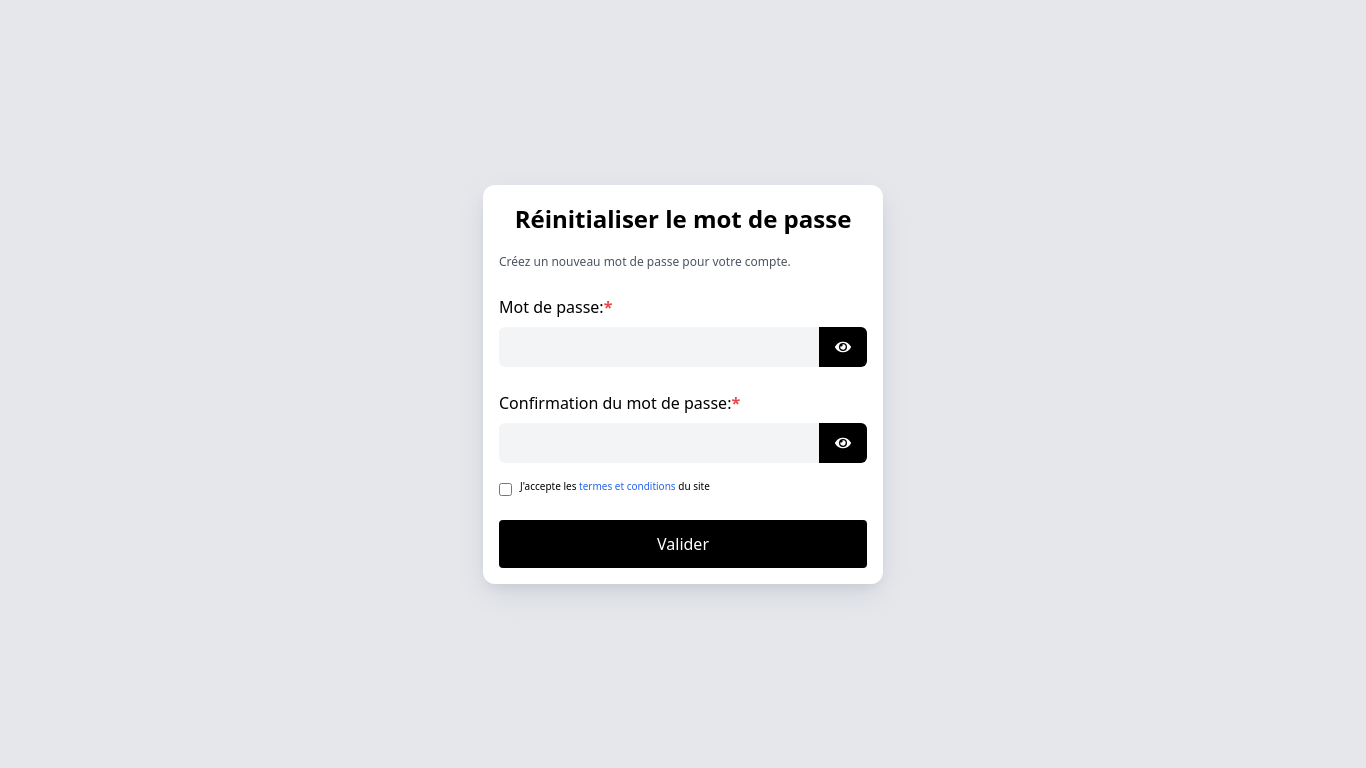
Test: PasswordResetPage (integration) › form validation › display an error if the passwords are not identical
Expected: the button "Valider" is shown, [499,520,867,568]
Type "password123" into the password field named "password".
click(659, 346); type("password123")  # box [499,326,819,366]
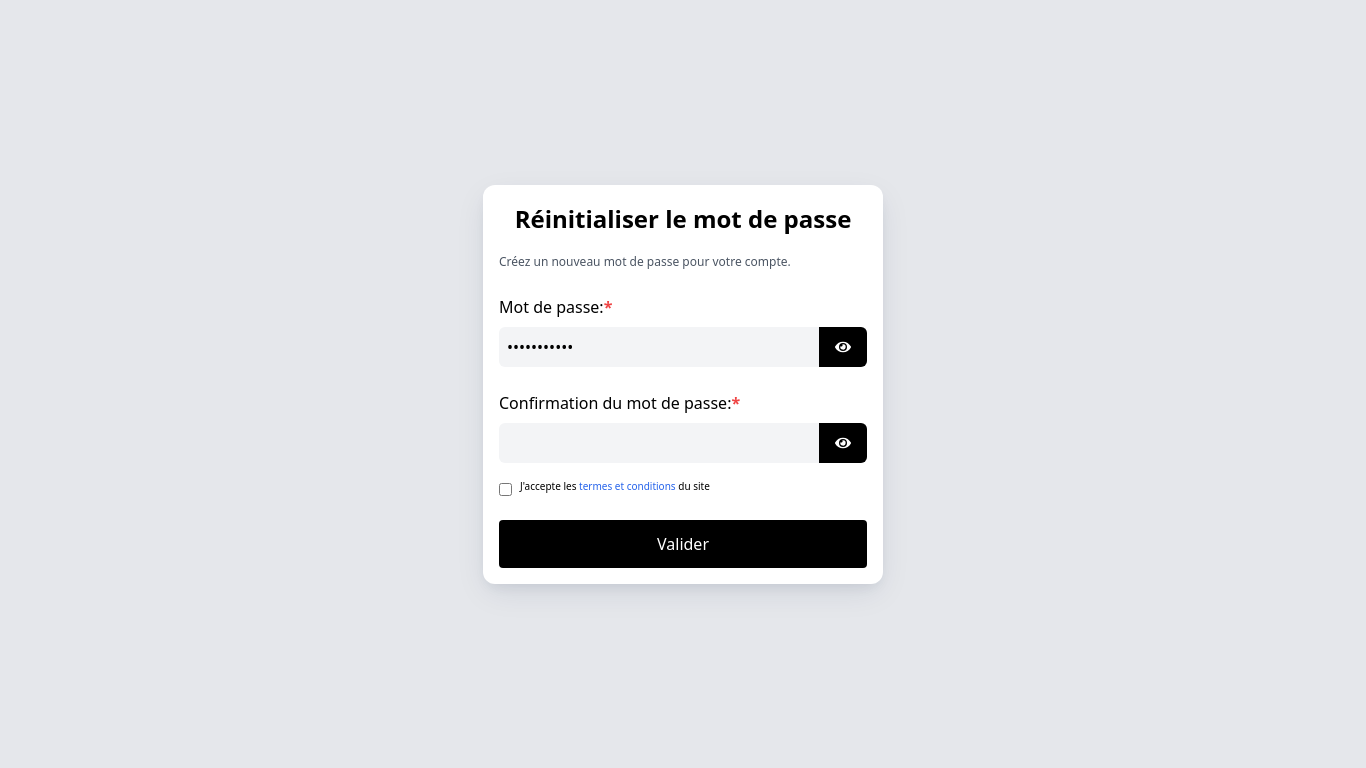
Type "different" into the password field named "confirmPassword".
click(659, 442); type("different")  # box [499,422,819,462]
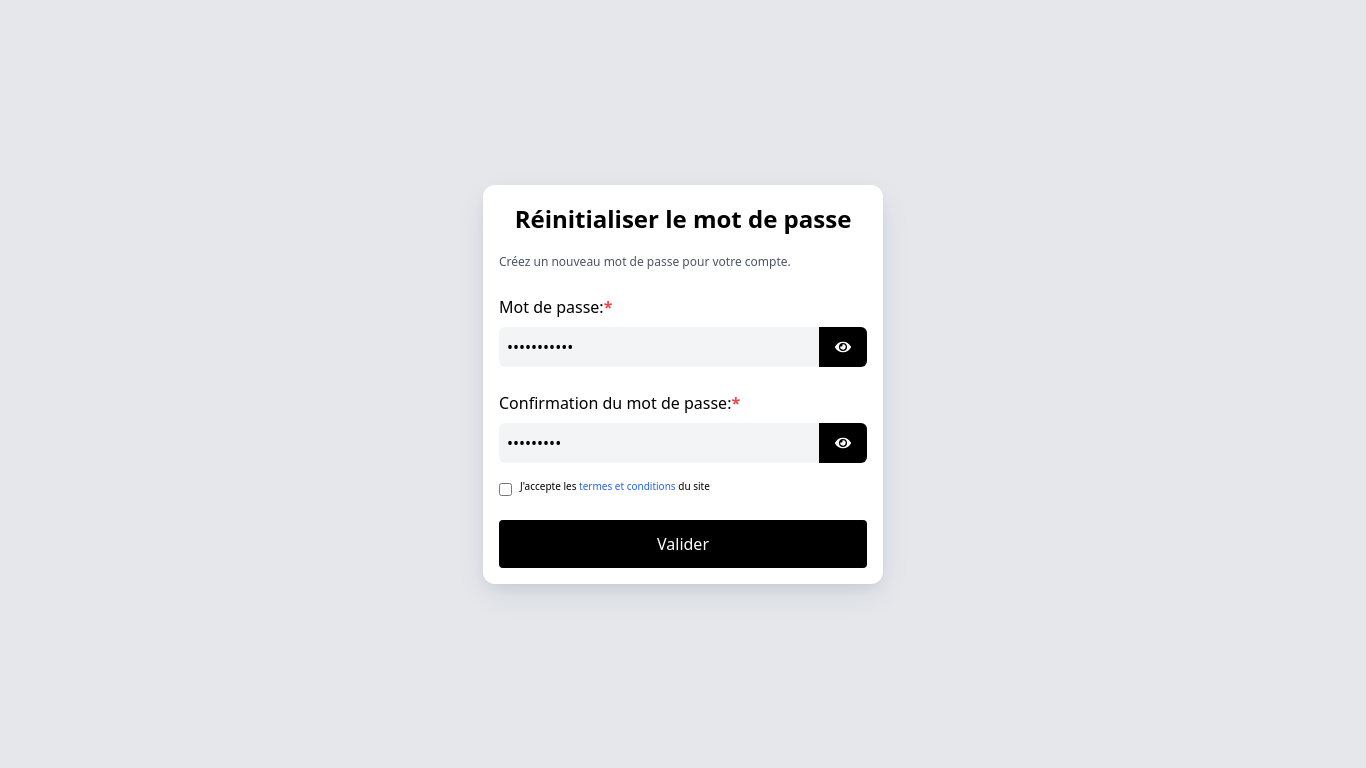
Click the checkbox with test id "checkbox-input".
click(506, 489)  # box [499,482,512,496]
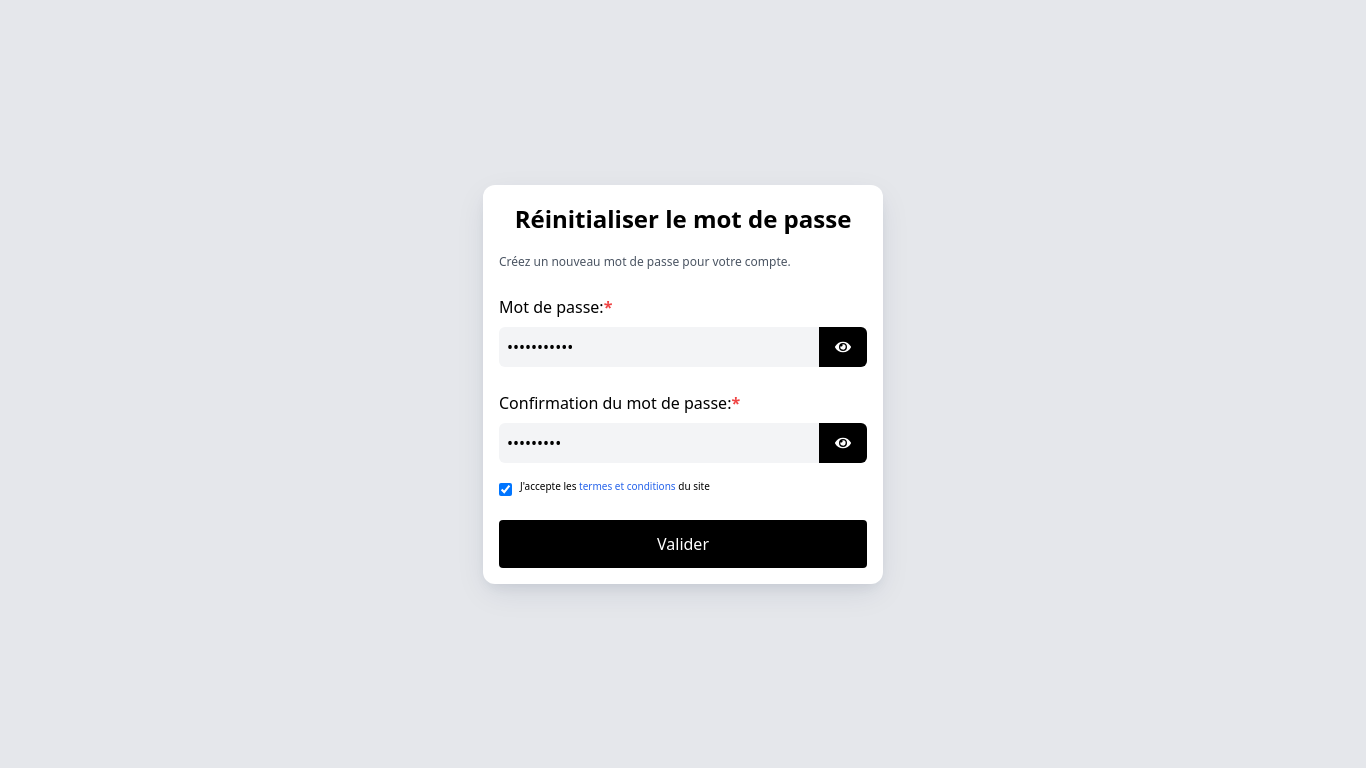
Submit the form named "password", box [499,286,867,568]
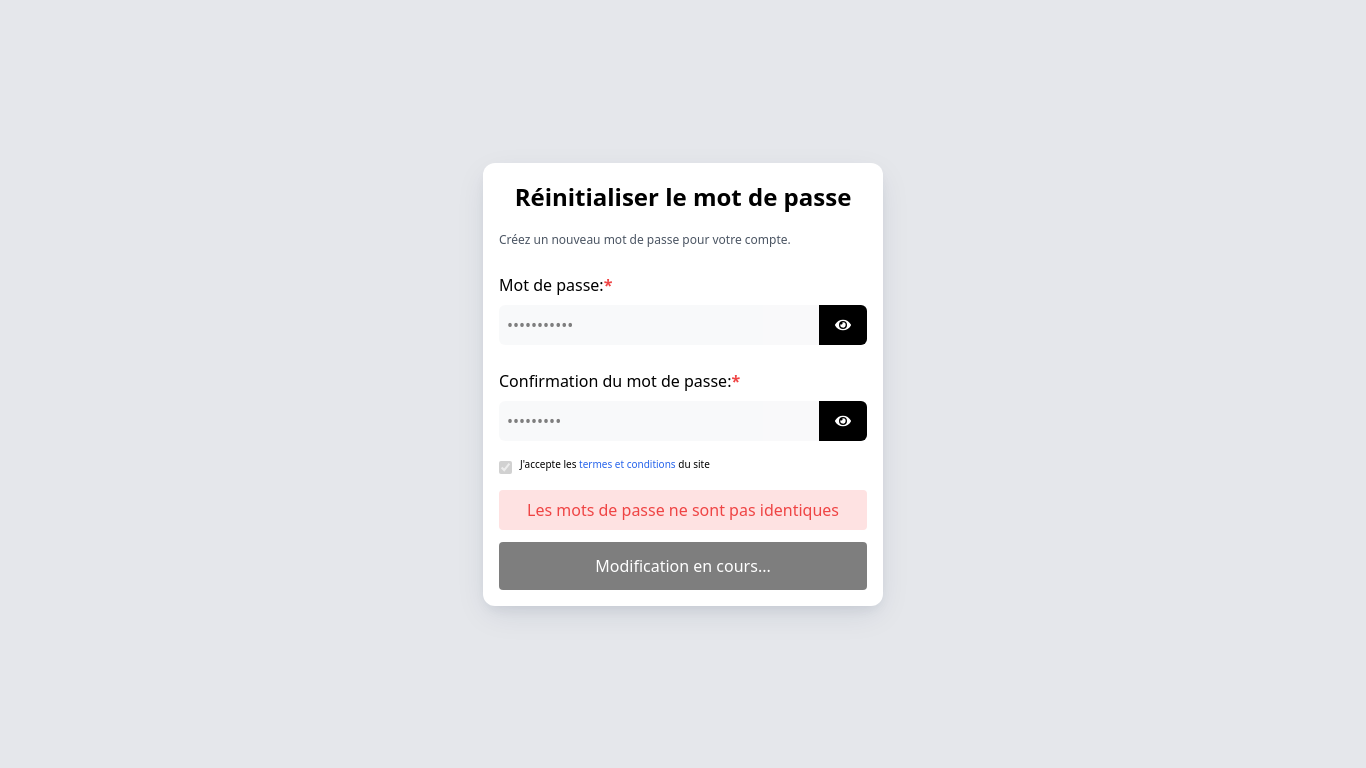
Expected: the text "Les mots de passe ne sont pas identiques" is shown, [507,498,859,522]
